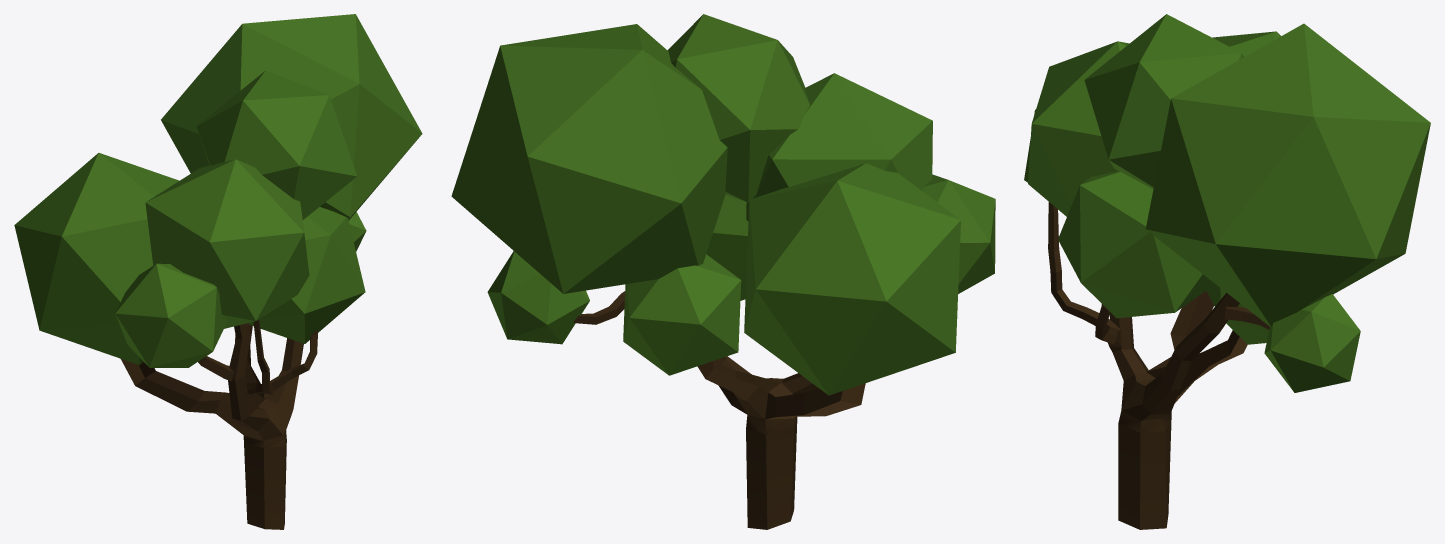
File: tree 3.fbx
3 views of the same model, side by side, from view 1: azimuth 30°, elevation 25°; view 2: azimuth 150°, elevation 25°; view 3: azimuth 270°, elevation 25° (orthographic). The views are drawn at different scales.
Parts seen in each view (by area): view 1: Default; view 2: Default; view 3: Default.
Part boxes in pixels (<box>): Default: <box>14,14,422,529</box>; Default: <box>451,14,995,529</box>; Default: <box>1024,14,1430,529</box>.
Size of the model in its own units: 11.8 by 13.23 by 9.32.
